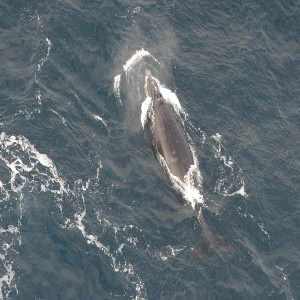cetacean: (132, 64, 234, 257)
